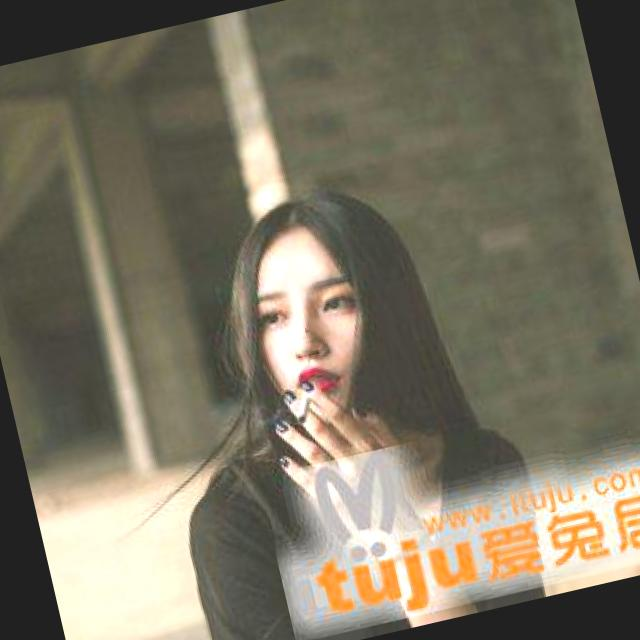smoke: (284, 372, 336, 428)
